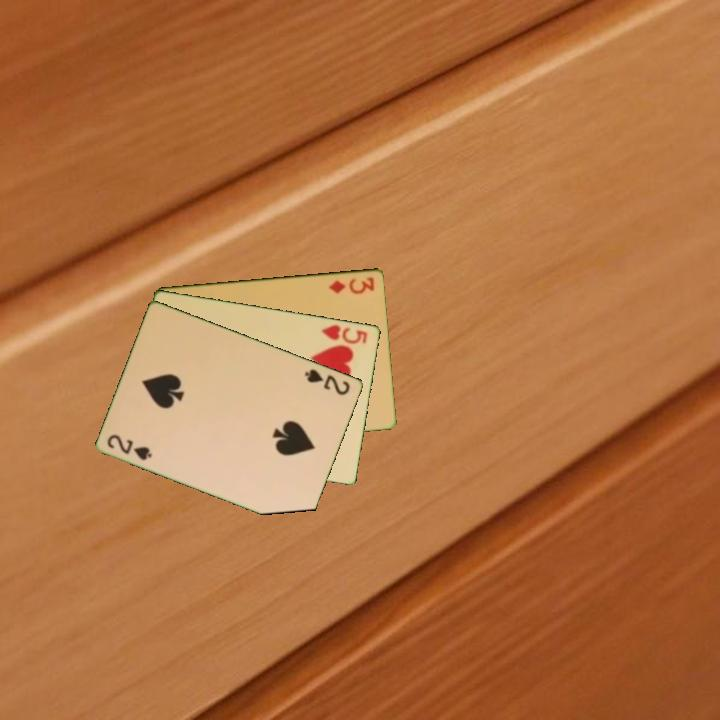2s: (301, 365, 353, 398), (104, 430, 156, 463)
3d: (325, 273, 377, 296)
5h: (318, 321, 371, 347)
